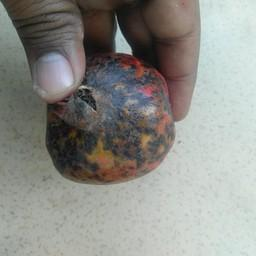Bad_pomegranate: (46, 44, 177, 186)
